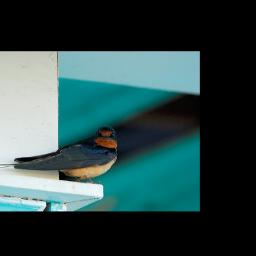Swallow: (0, 123, 121, 183)
